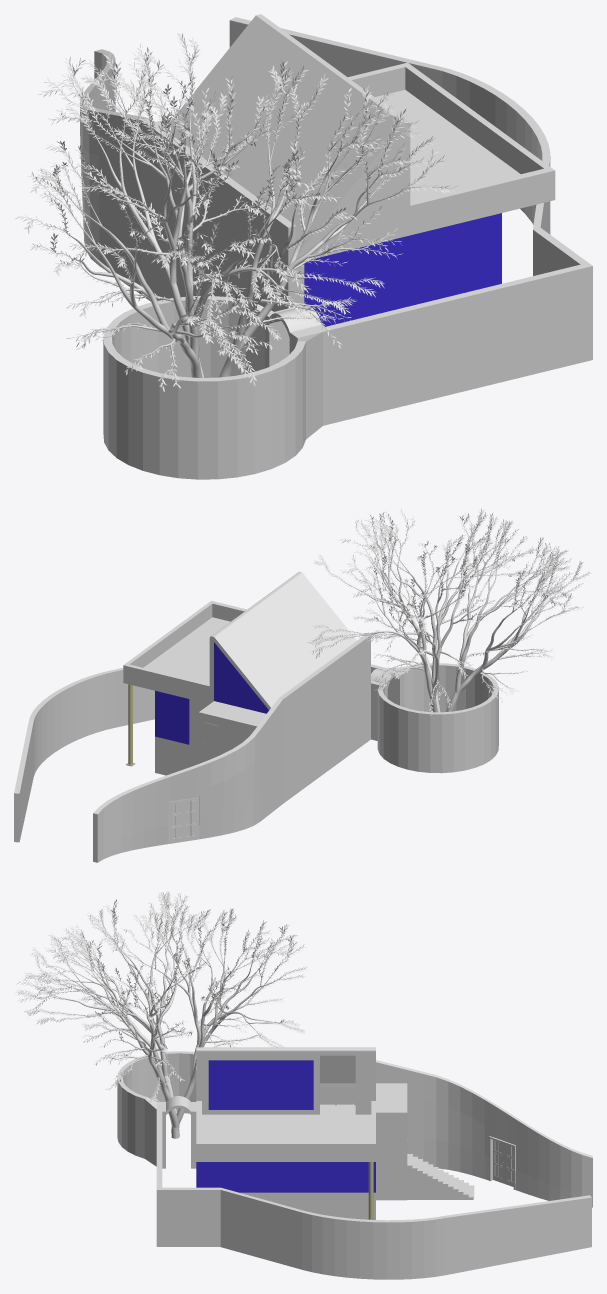
Rendered from Level4.fbx.
3 views of the same model, one above another, from view 1: azimuth 30°, elevation 25°; view 2: azimuth 150°, elevation 25°; view 3: azimuth 270°, elevation 25° (orthographic). The views are drawn at different scales.
Visible parts, largest first — view 1: Perimiter Wall, House, leaves, tree, Cube; view 2: House, Cube, Perimiter Wall, leaves, tree, Panel.002, Panel, Panel.001; view 3: Perimiter Wall, House, Cube, leaves, tree, Stairs.
Boxes of the visible parts, x1=… form: Perimiter Wall: x1=103, y1=17, x2=592, y2=479; House: x1=154, y1=14, x2=555, y2=326; leaves: x1=14, y1=33, x2=458, y2=391; tree: x1=21, y1=38, x2=448, y2=384; Cube: x1=80, y1=49, x2=296, y2=311; House: x1=123, y1=571, x2=356, y2=775; Cube: x1=93, y1=635, x2=370, y2=862; Perimiter Wall: x1=14, y1=663, x2=498, y2=842; leaves: x1=307, y1=508, x2=592, y2=715; tree: x1=314, y1=516, x2=585, y2=712; Panel.002: x1=169, y1=799, x2=183, y2=843; Panel: x1=203, y1=722, x2=219, y2=761; Panel.001: x1=184, y1=797, x2=197, y2=841; Perimiter Wall: x1=117, y1=1051, x2=591, y2=1279; House: x1=196, y1=1047, x2=407, y2=1219; Cube: x1=376, y1=1060, x2=592, y2=1207; leaves: x1=15, y1=891, x2=307, y2=1104; tree: x1=18, y1=901, x2=299, y2=1138; Stairs: x1=407, y1=1154, x2=474, y2=1199.
Size of the model in its own units: 2836 by 1448 by 3399.
